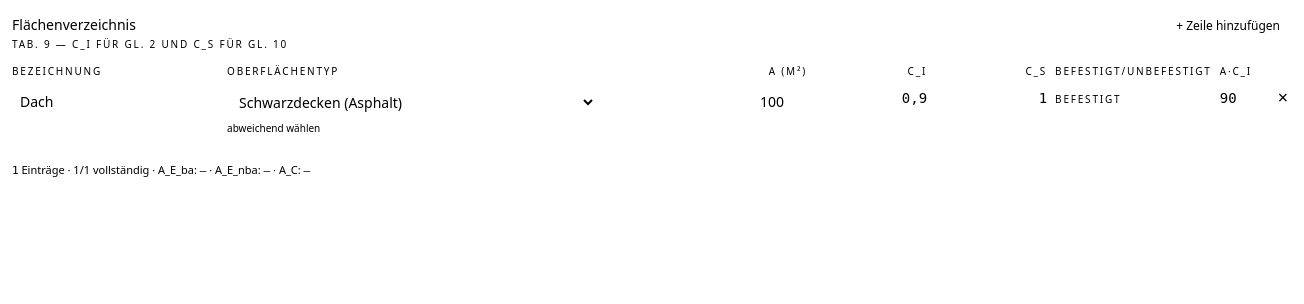
Test: RegisterEditor — override policy from the TABLE (I-4) › anhaltswert (TAB9): toggle + per-row reason; "Begründung fehlt" until recordManualOverride(register:TAB9:<rowId>) succeeds
Click the button "abweichend wählen" at coordinates (274, 128), box [227,121,320,136]
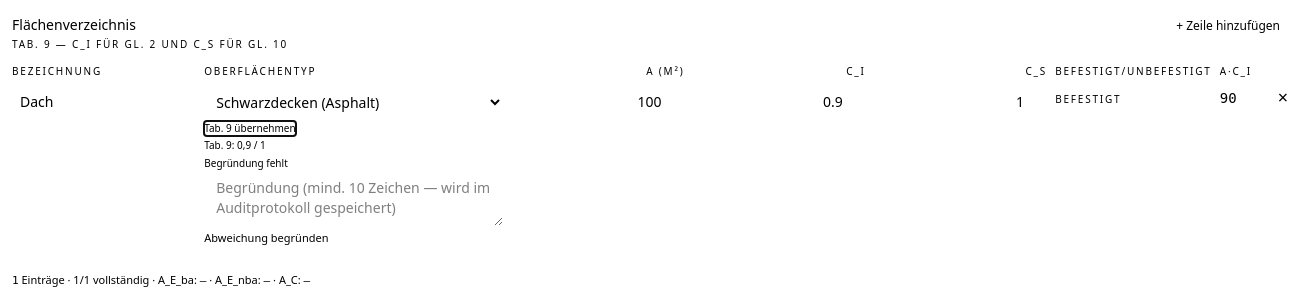
Result: the text with test id "register-reason-missing" reads "Begründung fehlt" at [204,156,288,170]
Result: the button "Abweichung begründen" is disabled at [204,230,328,246]
Replace the text in the text box named "Begründung der Abweichung" with "Örtliche Messung 2026" at coordinates (354, 198), box [204,170,503,226]
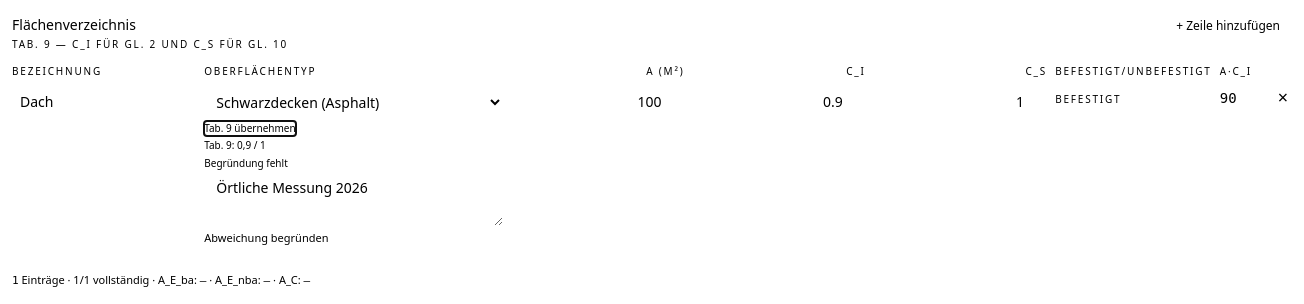
Click the button "Abweichung begründen" at coordinates (266, 238), box [204,230,328,246]
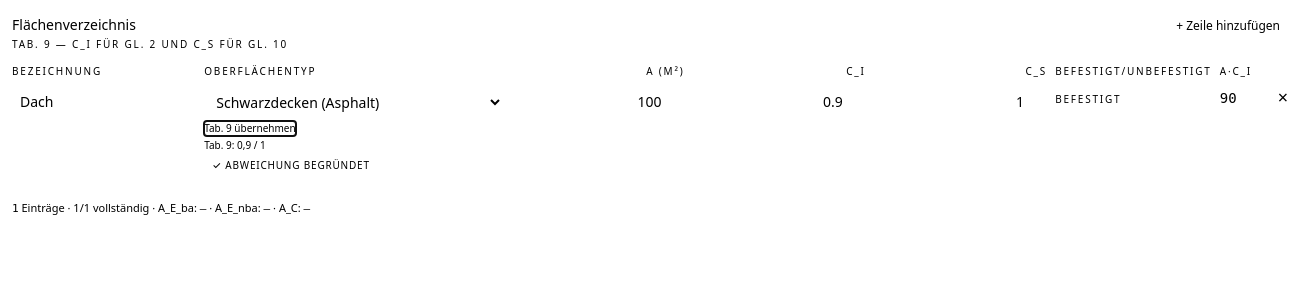
Result: the text "✓ Abweichung begründet" is shown at [204,156,378,174]
Result: the text with test id "register-reason-missing" is gone
# "übernehmen" clears the override AND the confirmation.
Click the button "Tab. 9 übernehmen" at coordinates (250, 128), box [204,121,296,136]
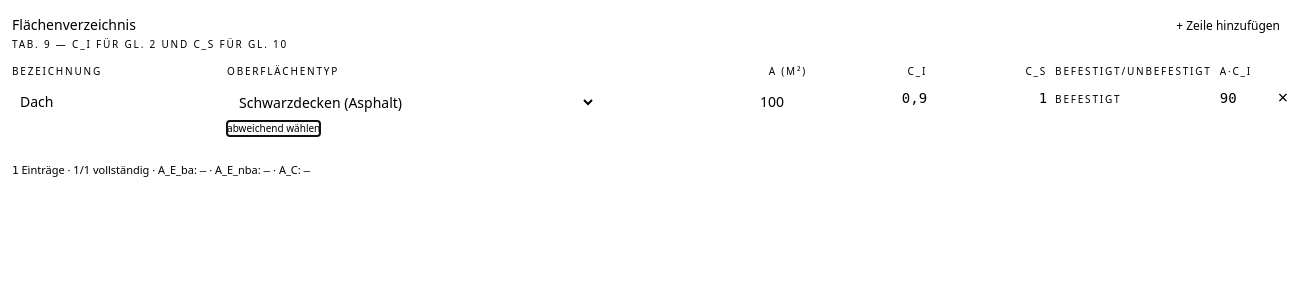
Result: the text "✓ Abweichung begründet" is gone
